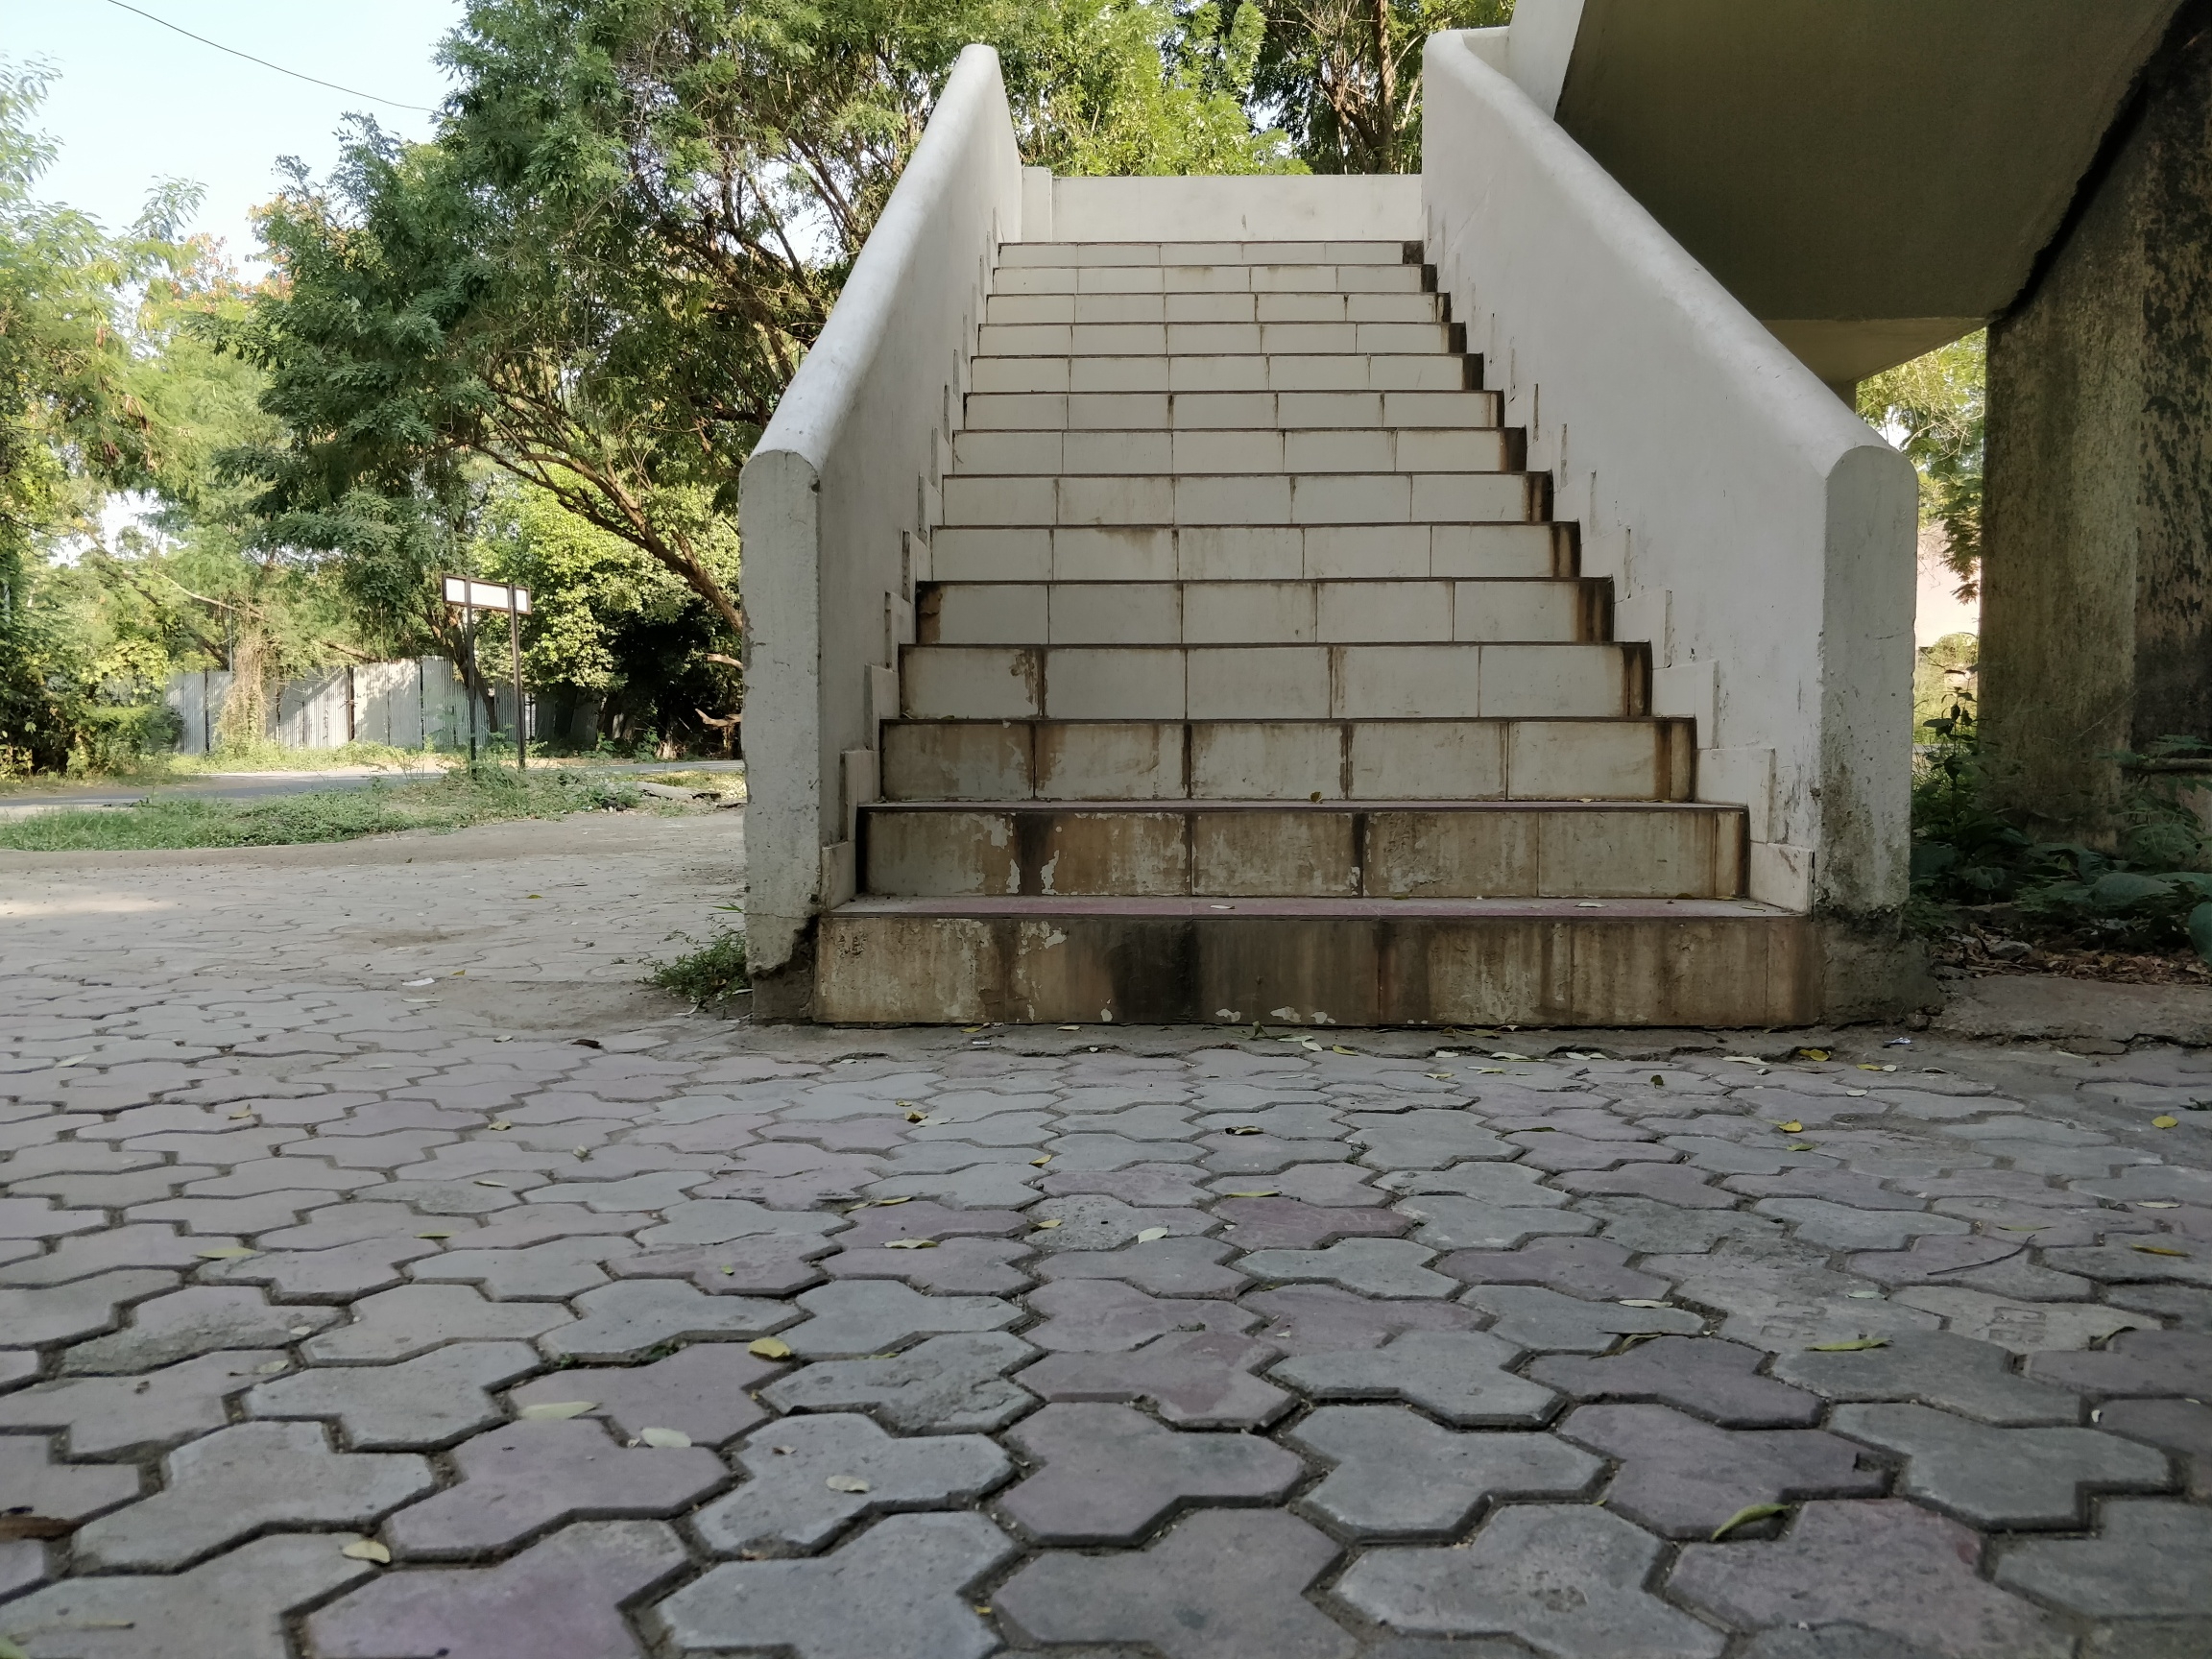stairs_up: (853, 232, 1785, 1025)
